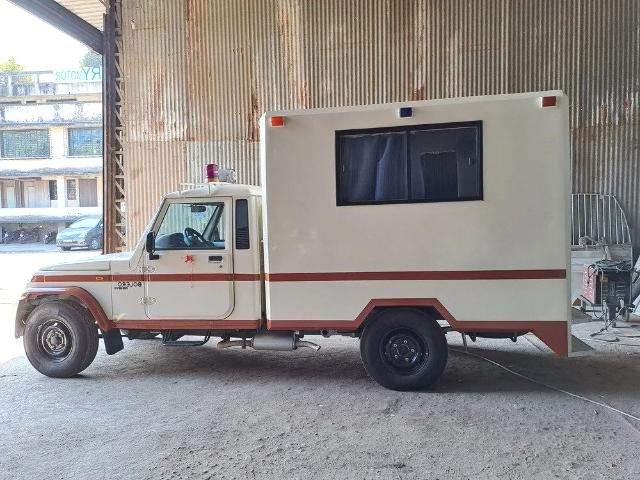ambulance: (6, 74, 594, 383)
